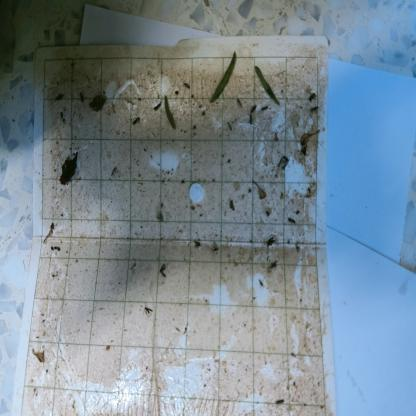prays_oleae: (156, 257, 168, 284), (142, 294, 154, 321), (130, 110, 144, 132), (286, 214, 300, 230), (265, 231, 276, 249), (268, 252, 277, 272), (192, 237, 202, 253), (212, 242, 221, 258), (249, 98, 257, 113), (109, 164, 118, 177), (276, 396, 287, 406), (208, 238, 210, 240)
